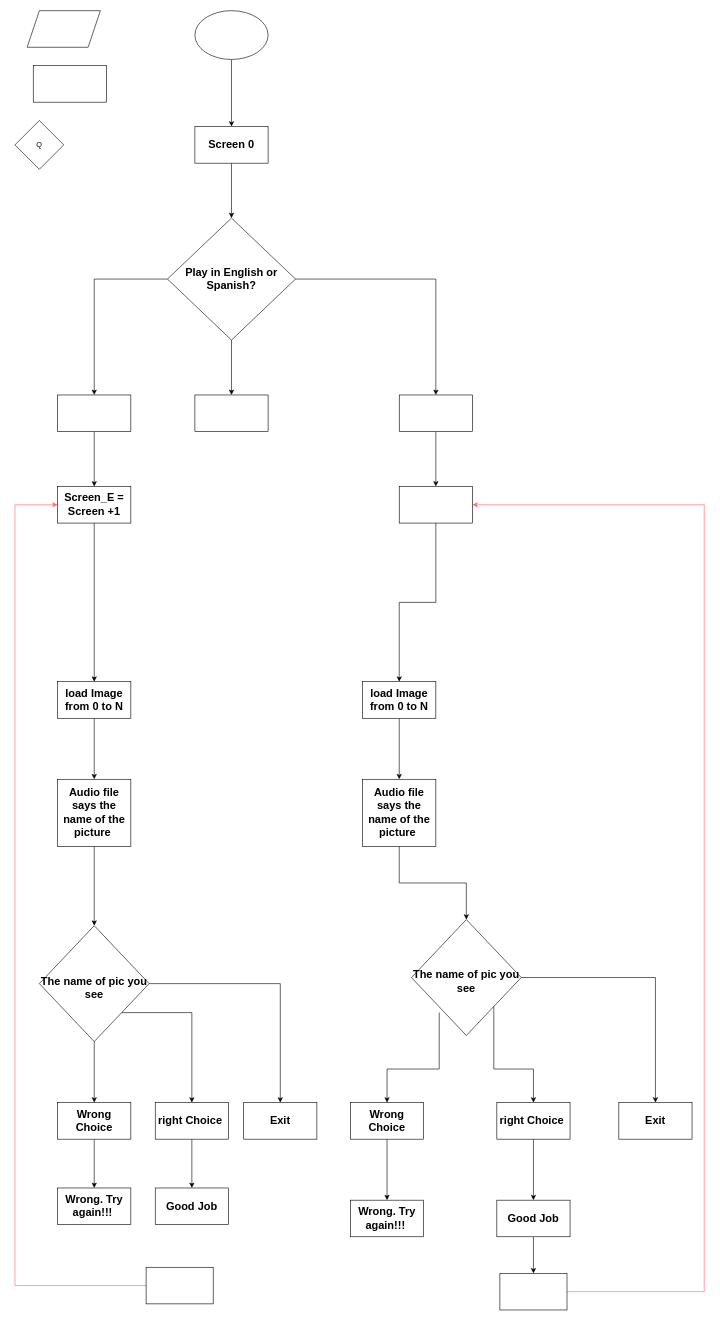
This 720x1321 diagram has some shape labels left out. Here are the shapes that lost their labels. From the top down, the box of each, then its label:
(27, 10, 100, 47): Input
(194, 10, 268, 59): Start
(33, 65, 106, 102): Progress
(57, 394, 131, 432): English
(194, 394, 268, 432): Exist
(399, 394, 472, 432): Spanish
(399, 486, 472, 523): Screen_S = Screen_E + 1
(145, 1267, 213, 1304): Screen_E += 1
(499, 1273, 567, 1310): Screen_S += 1
